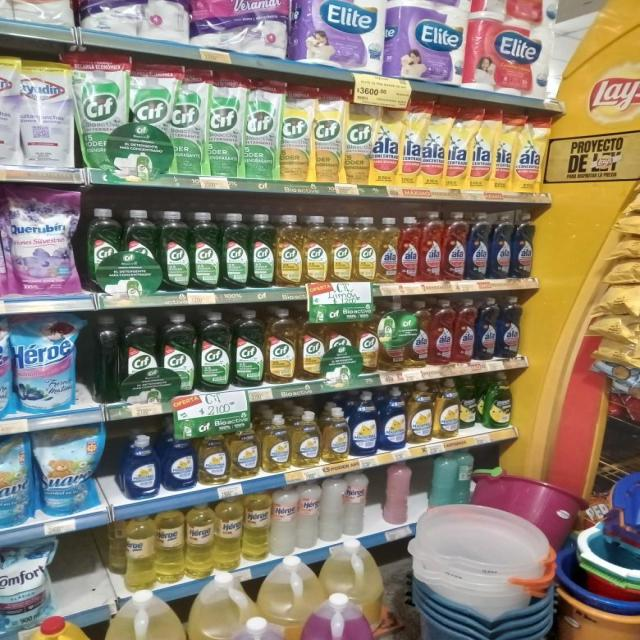ala_conc_amarillo: (380, 299, 407, 372), (407, 299, 428, 369), (377, 216, 398, 283)
ala_conc_azul: (512, 210, 537, 279), (468, 211, 490, 281), (490, 210, 512, 280), (498, 295, 522, 359), (476, 296, 497, 361)
ala_conc_rojo: (443, 210, 466, 282), (430, 299, 453, 365), (420, 213, 442, 282), (454, 298, 475, 364), (399, 215, 419, 283)
ala_sachet_amarillo: (372, 101, 398, 186), (515, 117, 543, 193), (421, 106, 446, 188), (446, 109, 469, 189), (470, 111, 492, 190), (400, 104, 421, 186), (494, 117, 513, 191)
cif_conc_bot_amarilla: (266, 308, 297, 385), (298, 307, 326, 382), (327, 306, 355, 379), (276, 214, 302, 287), (304, 214, 329, 284), (330, 215, 353, 283), (356, 304, 378, 374), (354, 215, 376, 282)
cif_conc_botella_verde: (121, 315, 158, 403), (85, 207, 121, 294), (160, 313, 196, 397), (122, 209, 158, 293), (197, 312, 231, 392), (233, 308, 264, 388), (160, 210, 189, 292), (190, 212, 219, 290), (221, 212, 248, 290), (249, 213, 274, 288)
cif_conc_sachet_amarillo: (280, 85, 312, 181), (313, 88, 343, 184), (344, 94, 371, 185)
cif_conc_sachet_verde: (78, 53, 130, 173), (130, 61, 170, 176), (206, 72, 242, 178), (171, 67, 205, 176), (242, 78, 278, 179)
heroe: (155, 509, 185, 584), (124, 516, 154, 590), (186, 503, 214, 578), (215, 496, 242, 572), (243, 492, 270, 562), (271, 485, 295, 557)
magistral_con_amarillo: (261, 413, 290, 473), (229, 423, 259, 479), (198, 430, 228, 486), (292, 410, 320, 468), (407, 382, 433, 444), (434, 378, 460, 439), (322, 406, 349, 463)
magistral_con_azul: (122, 433, 159, 499), (163, 427, 196, 491), (350, 390, 378, 457), (379, 387, 406, 451)
magistral_con_verde: (482, 372, 514, 428)
